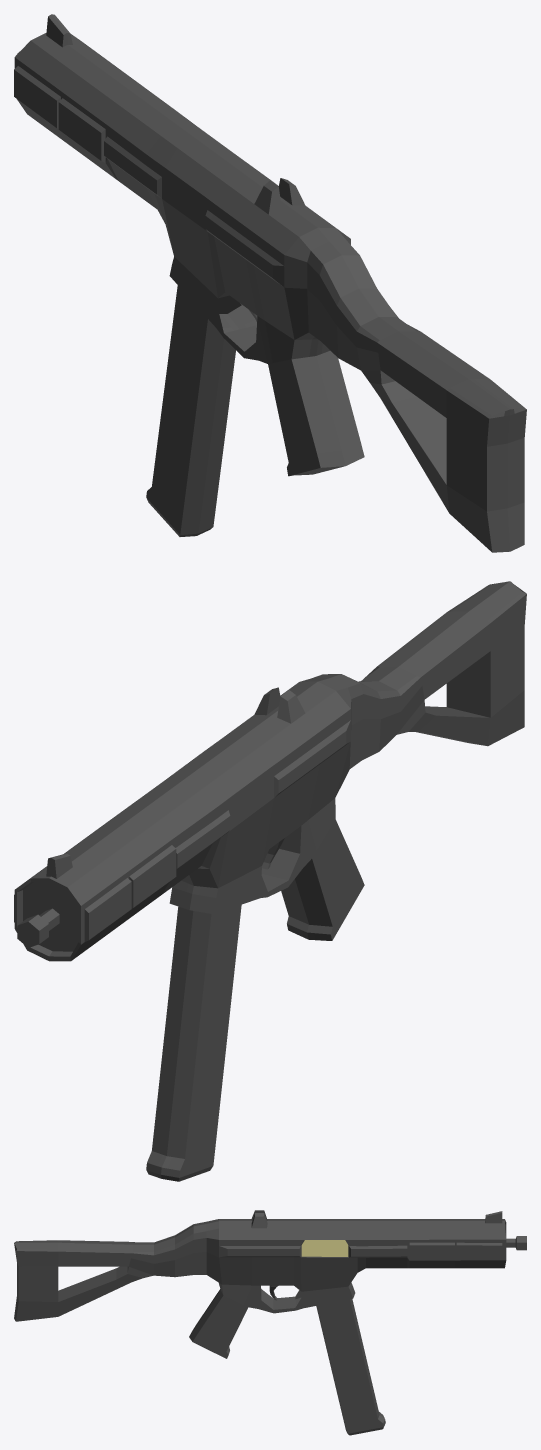
File: smg.fbx
3 views of the same model, one above another, from view 1: azimuth 30°, elevation 25°; view 2: azimuth 150°, elevation 25°; view 3: azimuth 270°, elevation 25° (orthographic). The views are drawn at different scales.
Visible parts, largest first — view 1: Cube; view 2: Cube, Cylinder; view 3: Cube.
Part boxes in pixels (x1,y1,x2,y2): Cube: (14, 14, 526, 552); Cube: (14, 581, 526, 1181); Cylinder: (17, 908, 59, 947); Cube: (14, 1210, 506, 1435).
Size of the model in its own units: 87.51 by 464 by 976.
